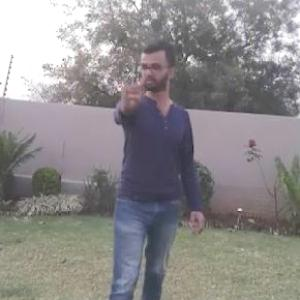takeoff-hand: (116, 67, 149, 116)
